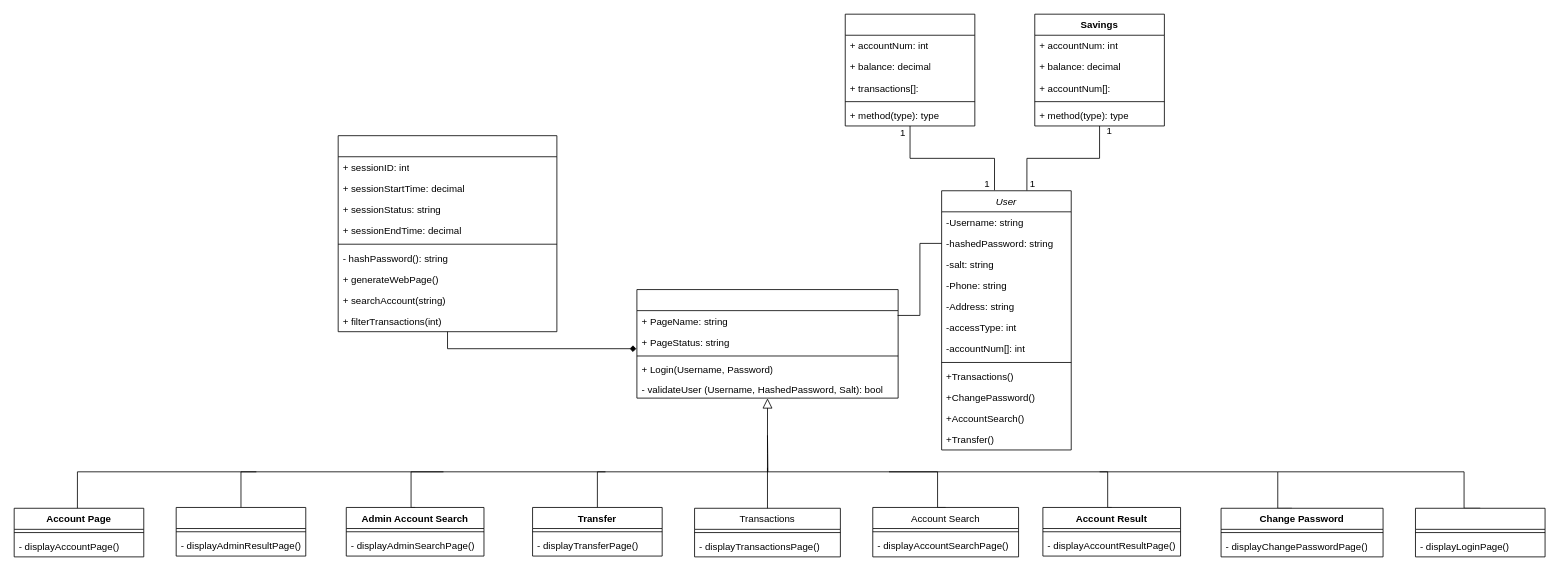
Image size: 1559x573. Some labels were removed from this diagram. The box of each missing label's shape, as (x1, y1, x2, y2) in pixels:
Admin Account Result: (175, 507, 306, 556)
Checking: (844, 13, 975, 126)
Login User: (1415, 507, 1545, 557)
Main (Controller): (337, 135, 557, 332)
WebPage: (636, 289, 898, 398)
